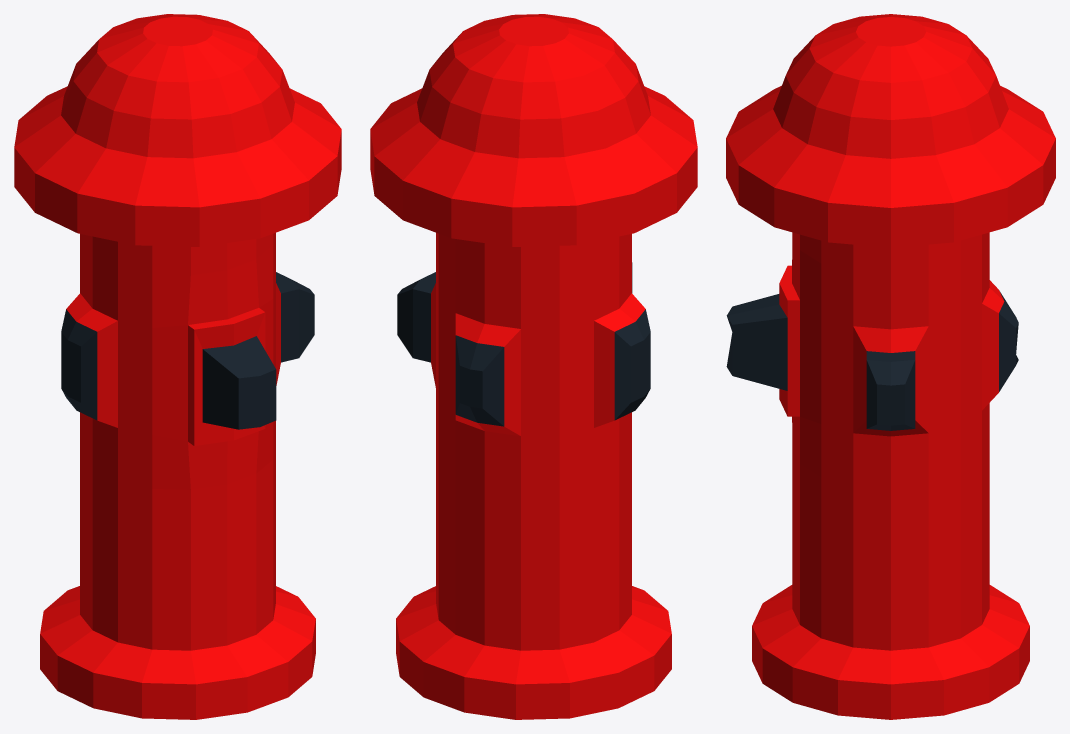
File: fire_hose.fbx
3 views of the same model, side by side, from view 1: azimuth 30°, elevation 25°; view 2: azimuth 150°, elevation 25°; view 3: azimuth 270°, elevation 25° (orthographic).
Parts seen in each view (by area): view 1: Cylinder; view 2: Cylinder; view 3: Cylinder.
Boxes of the visible parts, x1,y1,x2,y2 form: Cylinder: (14, 14, 341, 719); Cylinder: (370, 14, 697, 719); Cylinder: (726, 14, 1055, 719).
Size of the model in its own units: 84.91 by 179 by 84.91.
